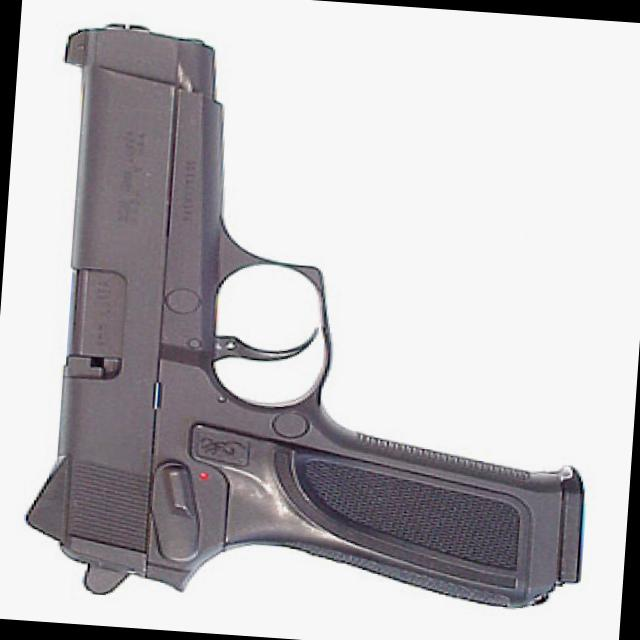handgun: (16, 18, 614, 630)
